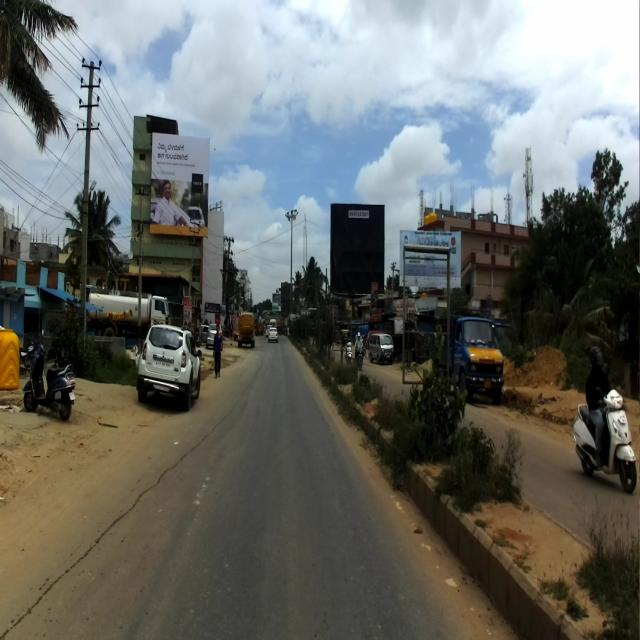car: (136, 320, 201, 411)
scooter: (569, 385, 637, 493), (22, 342, 76, 419)
